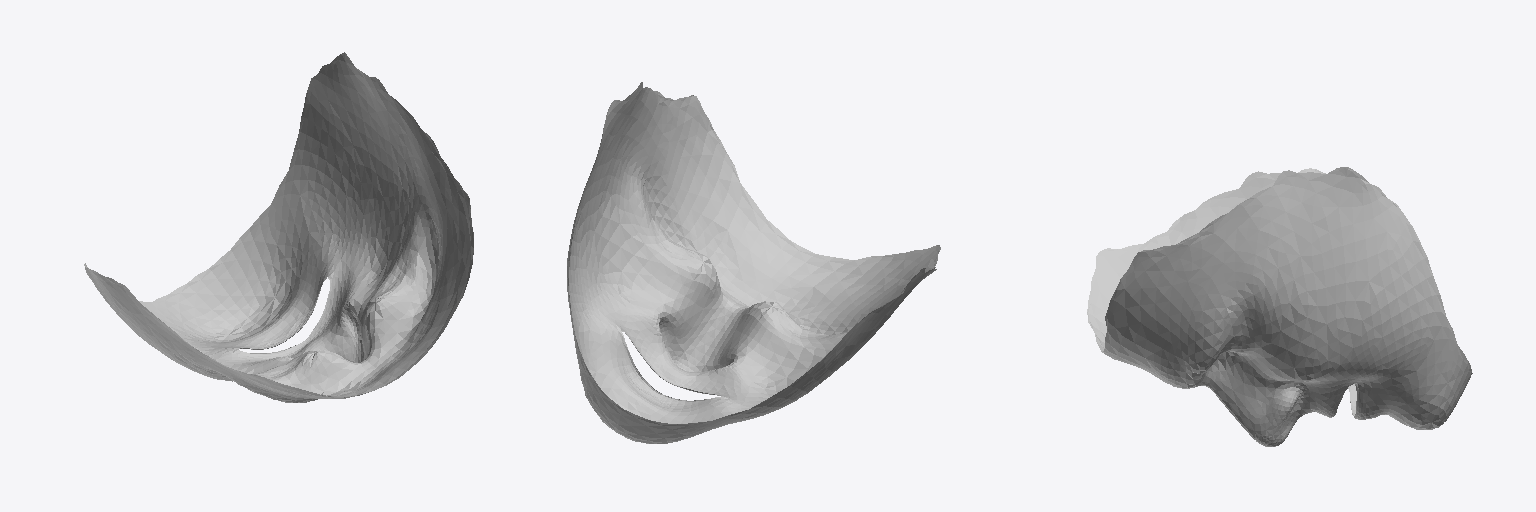
The model's file is face_gab_sfm31.obj.
3 renders of one model, left to right at view 1: azimuth 30°, elevation 25°; view 2: azimuth 150°, elevation 25°; view 3: azimuth 270°, elevation 25°, orthographic.
Size of the model in its own units: 164 by 153 by 179.